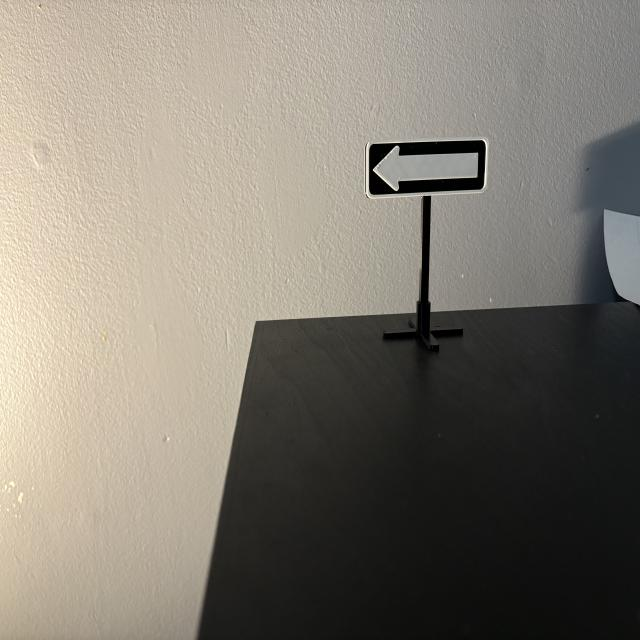sign_oneway_left: (367, 141, 489, 199)
